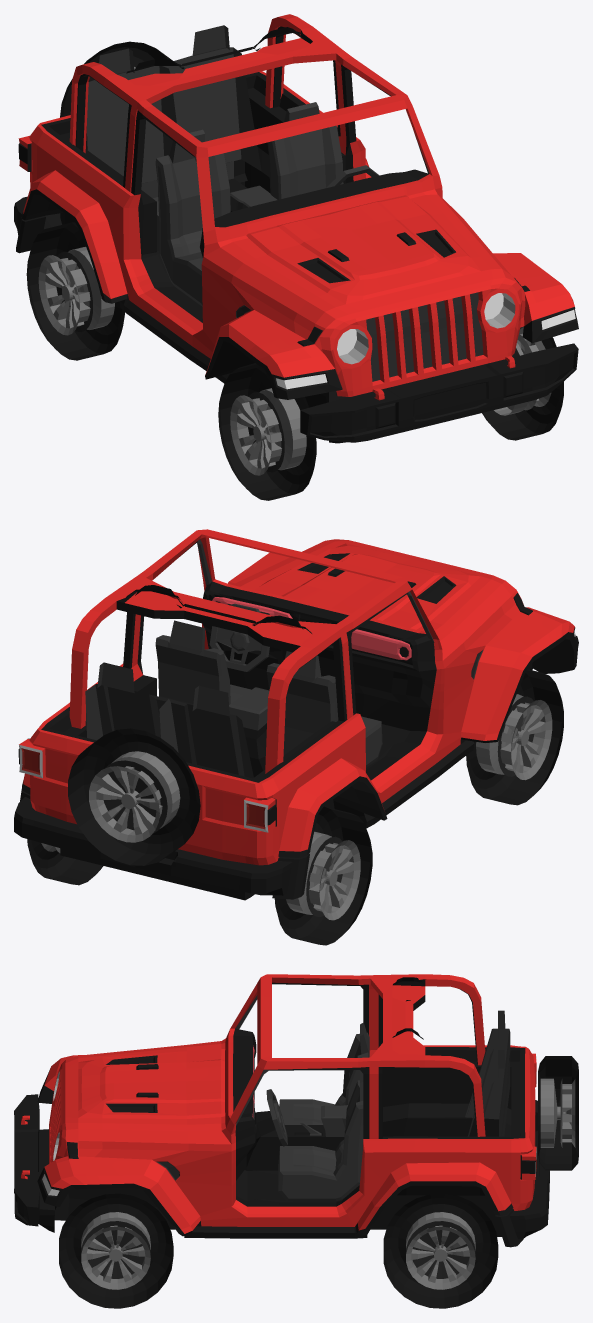
File: jeepwrangler.fbx
3 views of the same model, one above another, from view 1: azimuth 30°, elevation 25°; view 2: azimuth 150°, elevation 25°; view 3: azimuth 270°, elevation 25° (orthographic). The views are drawn at different scales.
Visible parts, largest first — view 1: Jeep Wrangler; view 2: Jeep Wrangler; view 3: Jeep Wrangler.
Boxes of the visible parts, x1,y1,x2,y2 form: Jeep Wrangler: (14, 14, 578, 500); Jeep Wrangler: (14, 529, 578, 945); Jeep Wrangler: (14, 974, 578, 1308).
Bounding box in the file's own units: 230 × 208 × 438.
